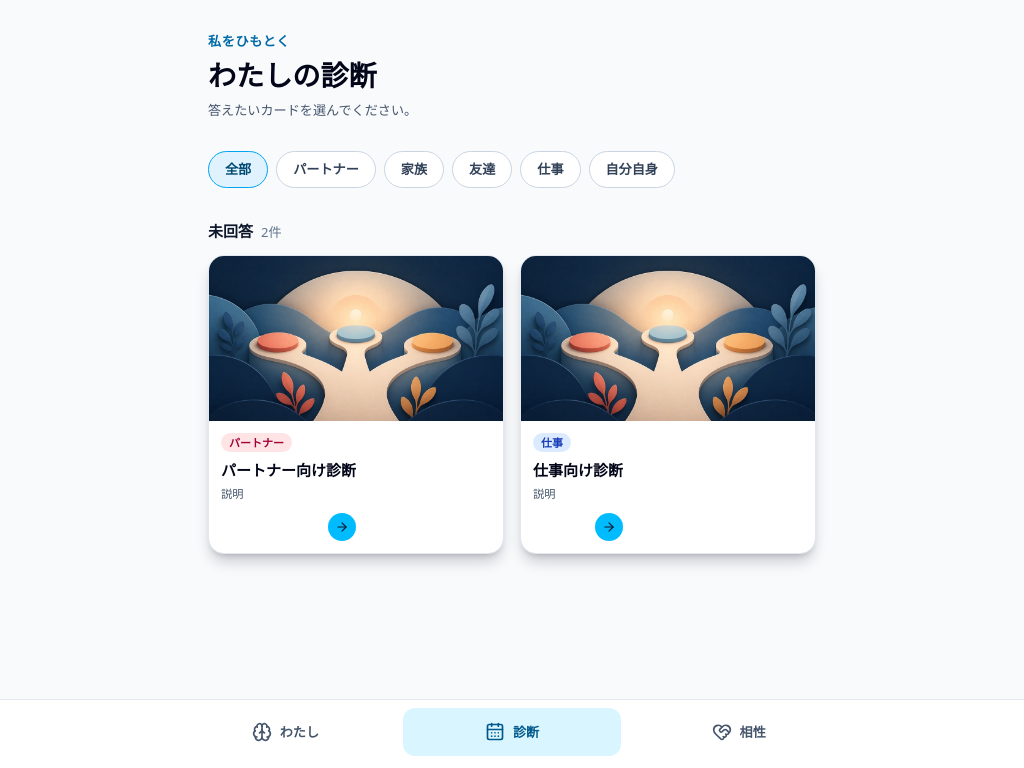
DiagnosisHome › カテゴリラベルを表示し、一覧をチップで絞り込む
This screenshot has width=1024, height=768.
Expected: the button "パートナー パートナー向け診断 説明" is shown, [208, 254, 504, 554]
Expected: the button "仕事 仕事向け診断 説明" is shown, [520, 254, 816, 554]
Click the button "仕事": (550, 170) [520, 151, 580, 188]
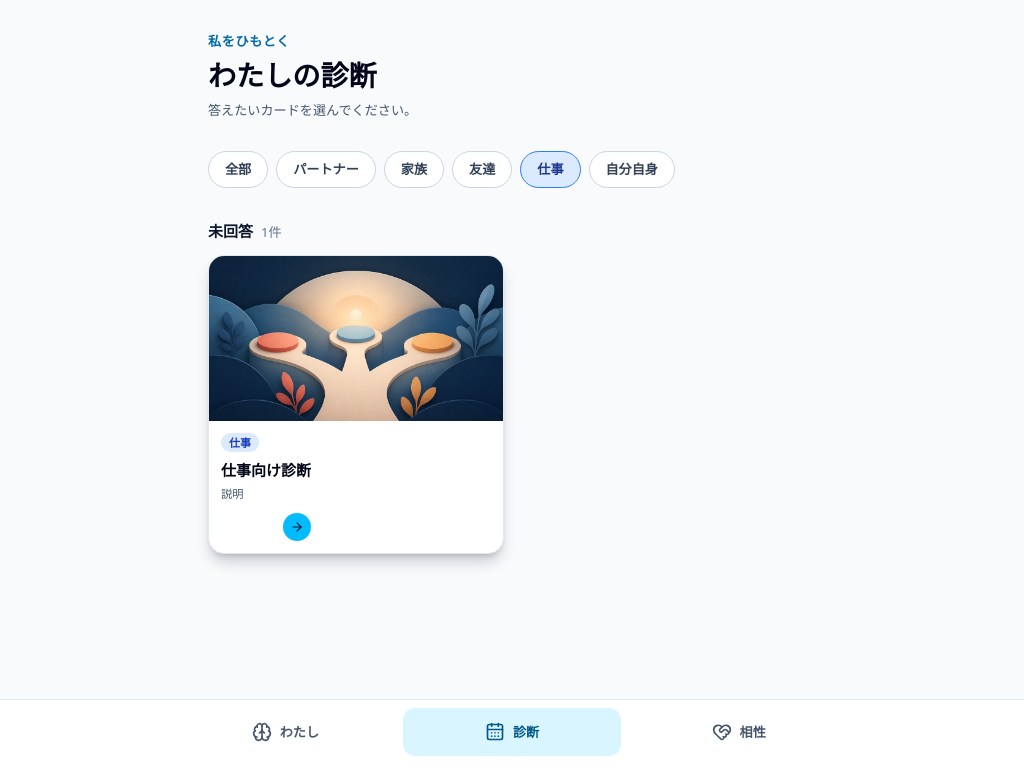
Expected: the button "仕事 仕事向け診断 説明" is shown, [208, 254, 504, 554]
Expected: the button "パートナー向け診断" is gone
